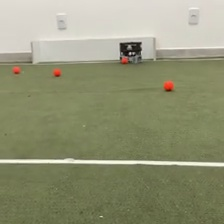ball: (163, 79, 173, 91), (52, 67, 61, 76), (120, 55, 128, 64), (13, 65, 21, 74)
goal: (28, 35, 156, 66)
robot: (118, 40, 143, 64)
